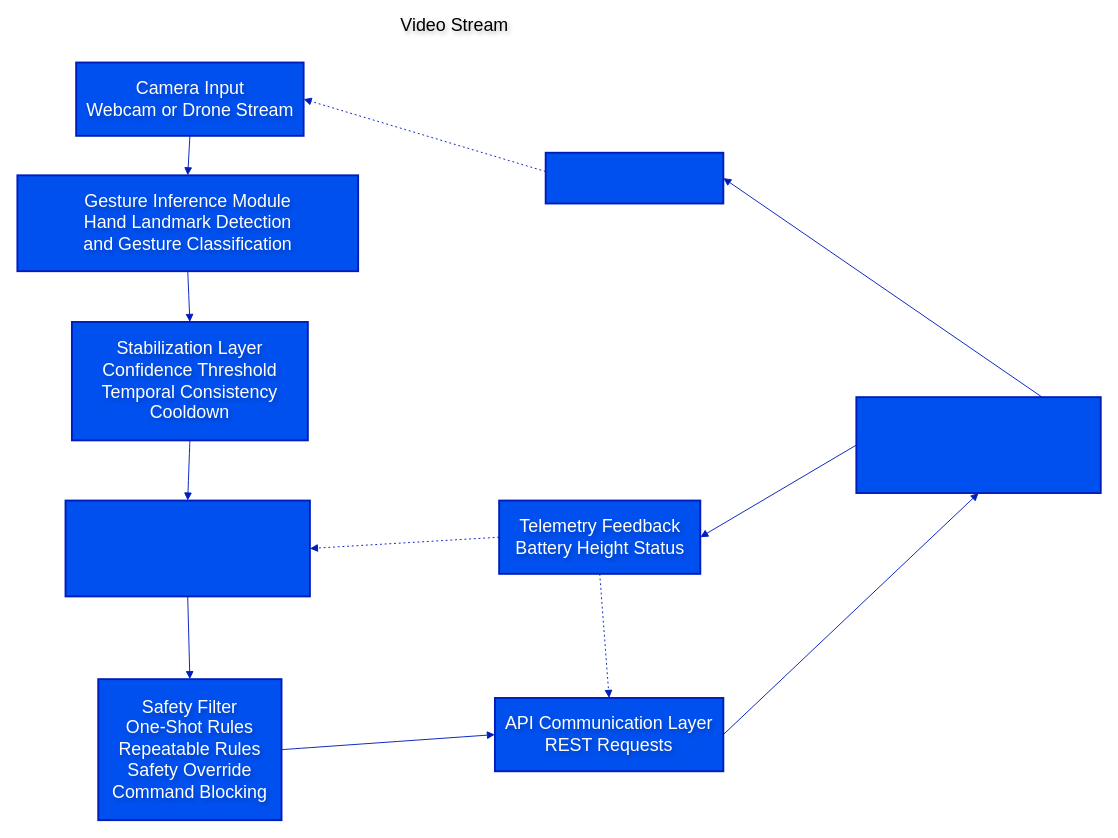
The diagram is 1118 pixels wide and 838 high, and some of its shapes have lost their labels. The shapes that lost their labels are listed below. From the top down, each one's centre as x and y in pixels, then its label:
(x=634, y=177): Drone / Simulator
(x=978, y=445): Drone or Simulator Controller Command Execution
(x=187, y=548): Command Mapping Layer Gesture to High-Level Command
